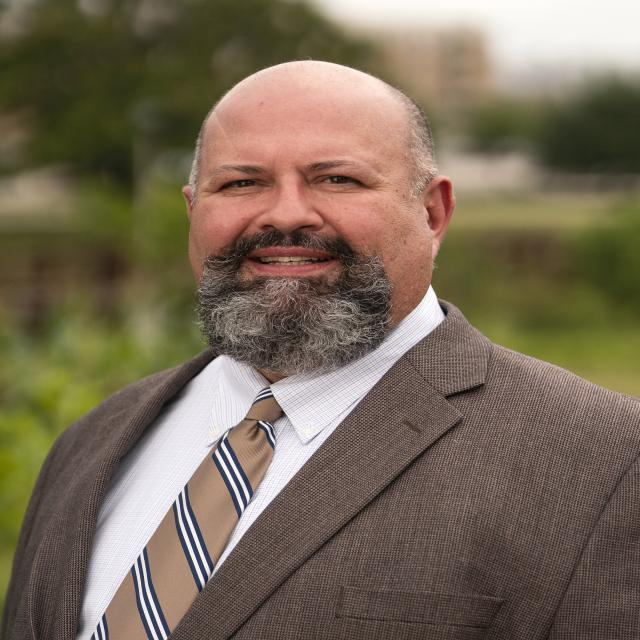adult: (17, 49, 639, 640)
